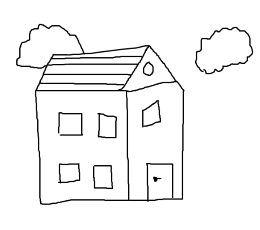clouds: (15, 23, 84, 68), (194, 25, 254, 75)
door: (141, 156, 176, 205)
open_window: (57, 112, 83, 136), (58, 161, 81, 184), (142, 100, 162, 126), (99, 112, 117, 138)
roof: (36, 44, 184, 91)
wall: (35, 86, 134, 204)
